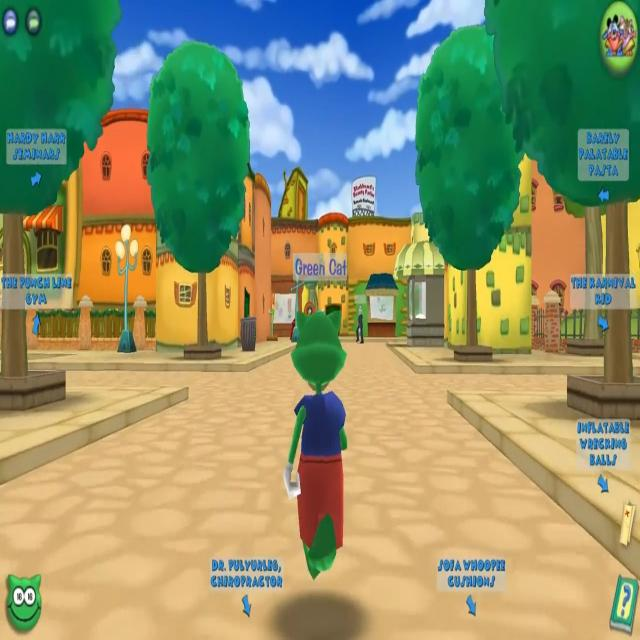doubletalker: (352, 296, 369, 347)
